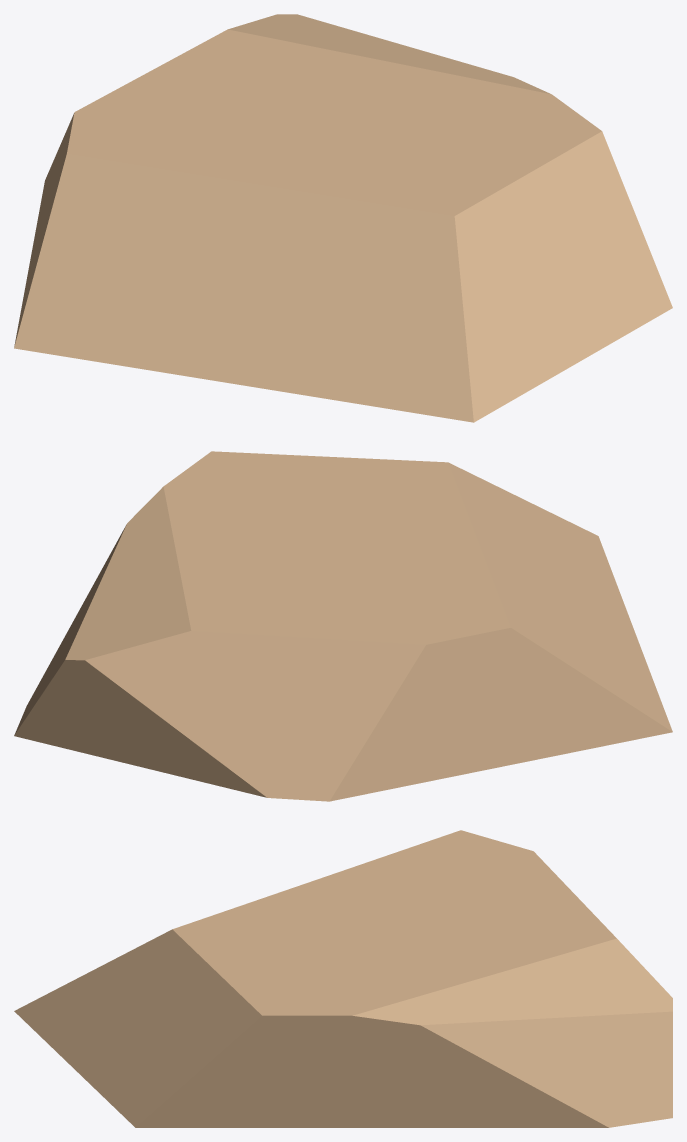
File: Rock_Flat_s_07.fbx
The picture shows the model from 3 angles, top to bottom: view 1: azimuth 30°, elevation 25°; view 2: azimuth 150°, elevation 25°; view 3: azimuth 270°, elevation 25°; orthographic projection. The views are drawn at different scales.
Parts seen in each view (by area): view 1: Rock_Flat_s_07; view 2: Rock_Flat_s_07; view 3: Rock_Flat_s_07.
Part boxes in pixels (<box>): Rock_Flat_s_07: <box>14,14,672,422</box>; Rock_Flat_s_07: <box>14,451,672,801</box>; Rock_Flat_s_07: <box>14,830,672,1127</box>.
Size of the model in its own units: 73.22 by 16.33 by 87.03.
